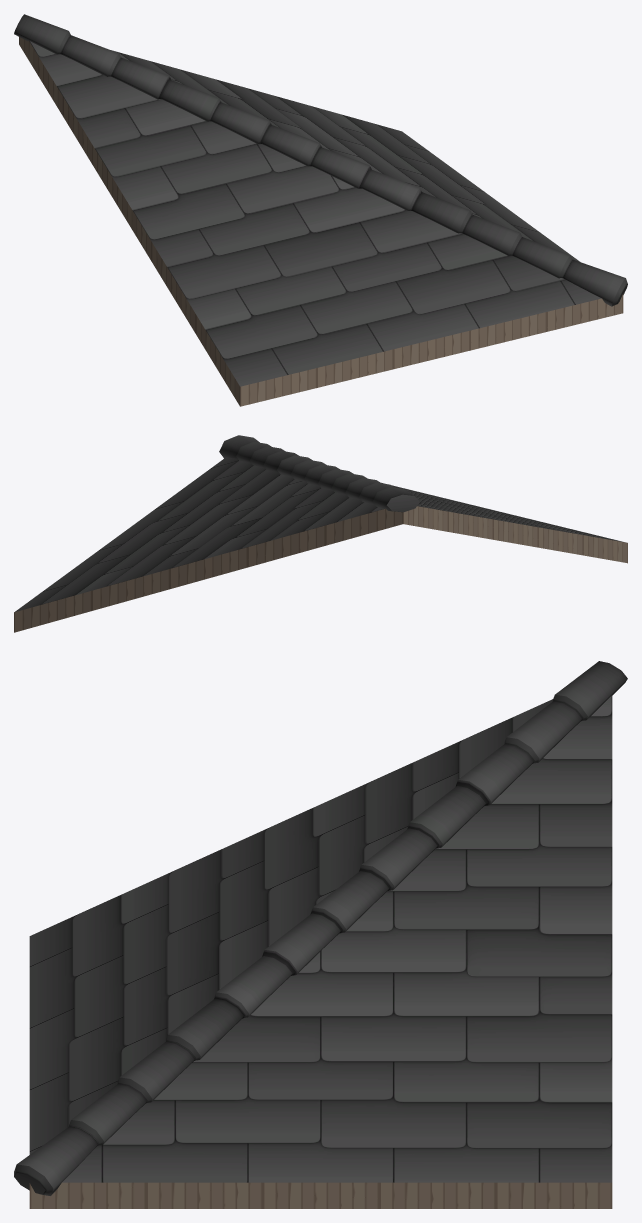
File: SM_House_Roof_Corner_01.obj
3 renders of one model, top to bottom at view 1: azimuth 30°, elevation 25°; view 2: azimuth 150°, elevation 25°; view 3: azimuth 270°, elevation 25°, orthographic. The views are drawn at different scales.
Visible parts, largest first — view 1: SM_House_Roof_Corner_01_mat_HouseRoof_01, SM_House_Roof_Corner_01_mi_HouseExteriorWalls_01; view 2: SM_House_Roof_Corner_01_mat_HouseRoof_01, SM_House_Roof_Corner_01_mi_HouseExteriorWalls_01; view 3: SM_House_Roof_Corner_01_mat_HouseRoof_01, SM_House_Roof_Corner_01_mi_HouseExteriorWalls_01.
Boxes of the visible parts, box(x1,y1,x2,y2) form: SM_House_Roof_Corner_01_mat_HouseRoof_01: box(14, 14, 627, 386); SM_House_Roof_Corner_01_mi_HouseExteriorWalls_01: box(19, 37, 623, 406); SM_House_Roof_Corner_01_mat_HouseRoof_01: box(14, 435, 625, 612); SM_House_Roof_Corner_01_mi_HouseExteriorWalls_01: box(14, 506, 627, 632); SM_House_Roof_Corner_01_mat_HouseRoof_01: box(14, 661, 627, 1195); SM_House_Roof_Corner_01_mi_HouseExteriorWalls_01: box(29, 1182, 612, 1208).
Size of the model in its own units: 5.27 by 2.85 by 5.27.
Materials: 3 (2 with a texture image).
